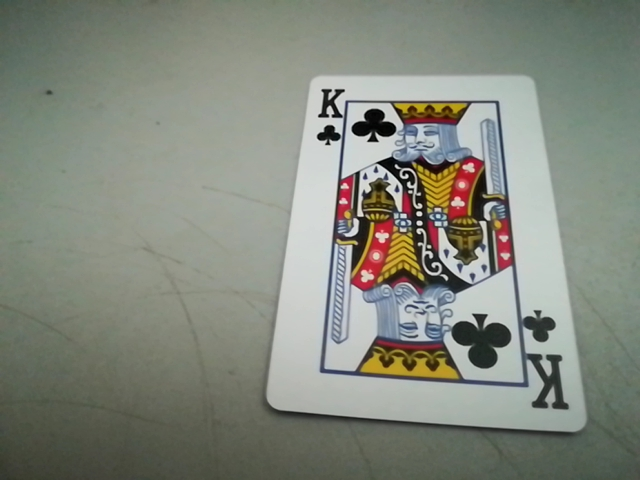mh k: (515, 307, 568, 416), (310, 84, 342, 147)
